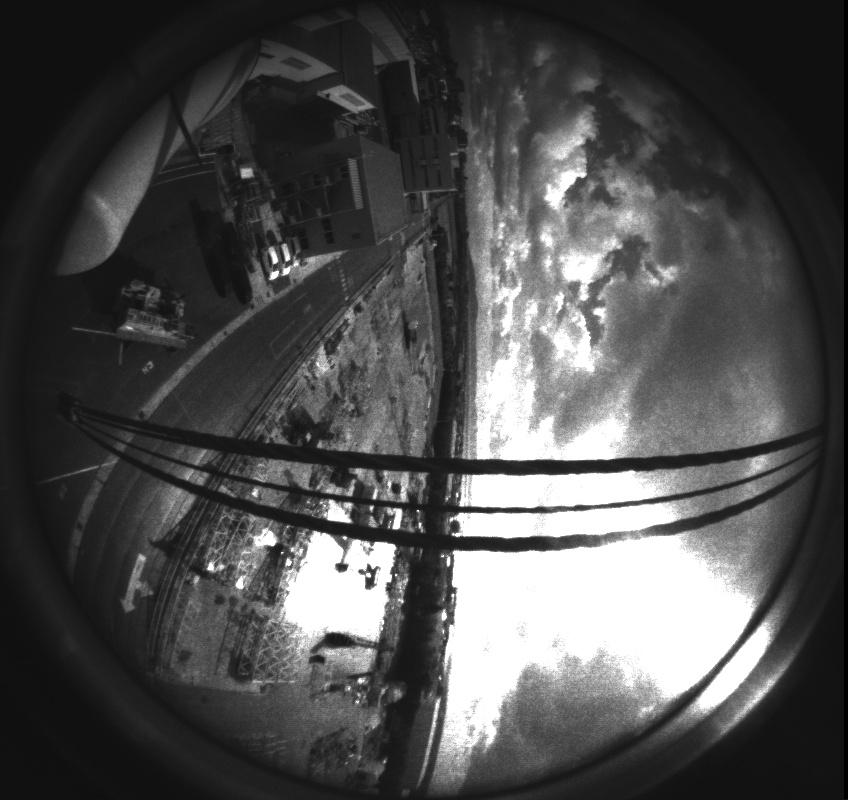rope: (8, 369, 845, 561)
